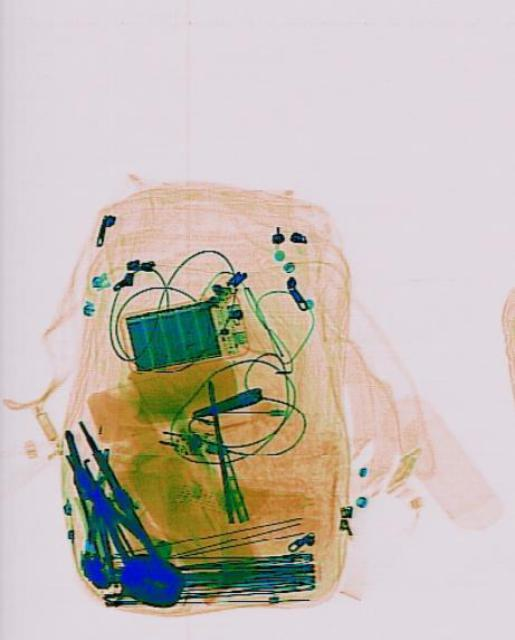Pliers: (46, 438, 162, 592)
